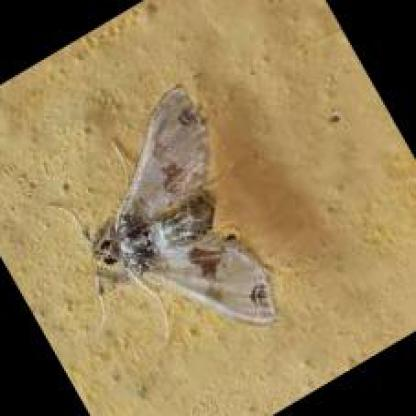leucinodes: (91, 77, 278, 329)
